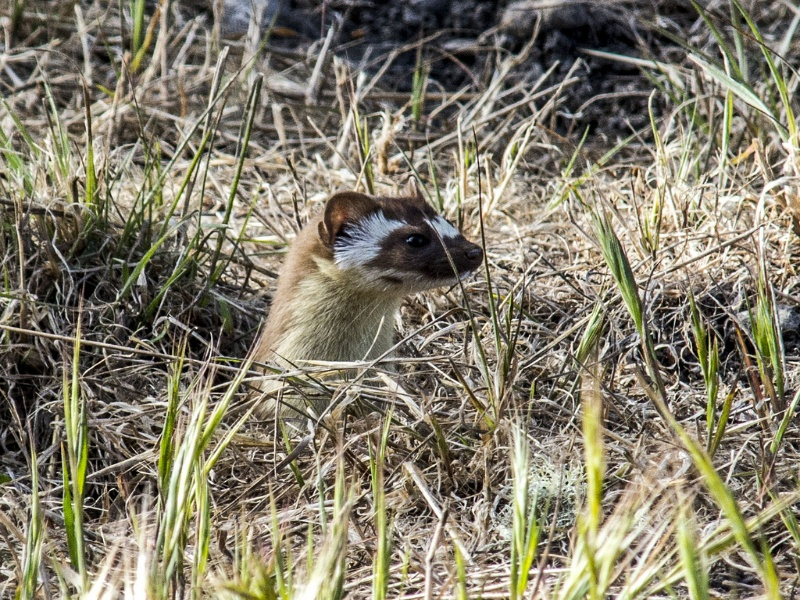minkish: (219, 185, 491, 430)
